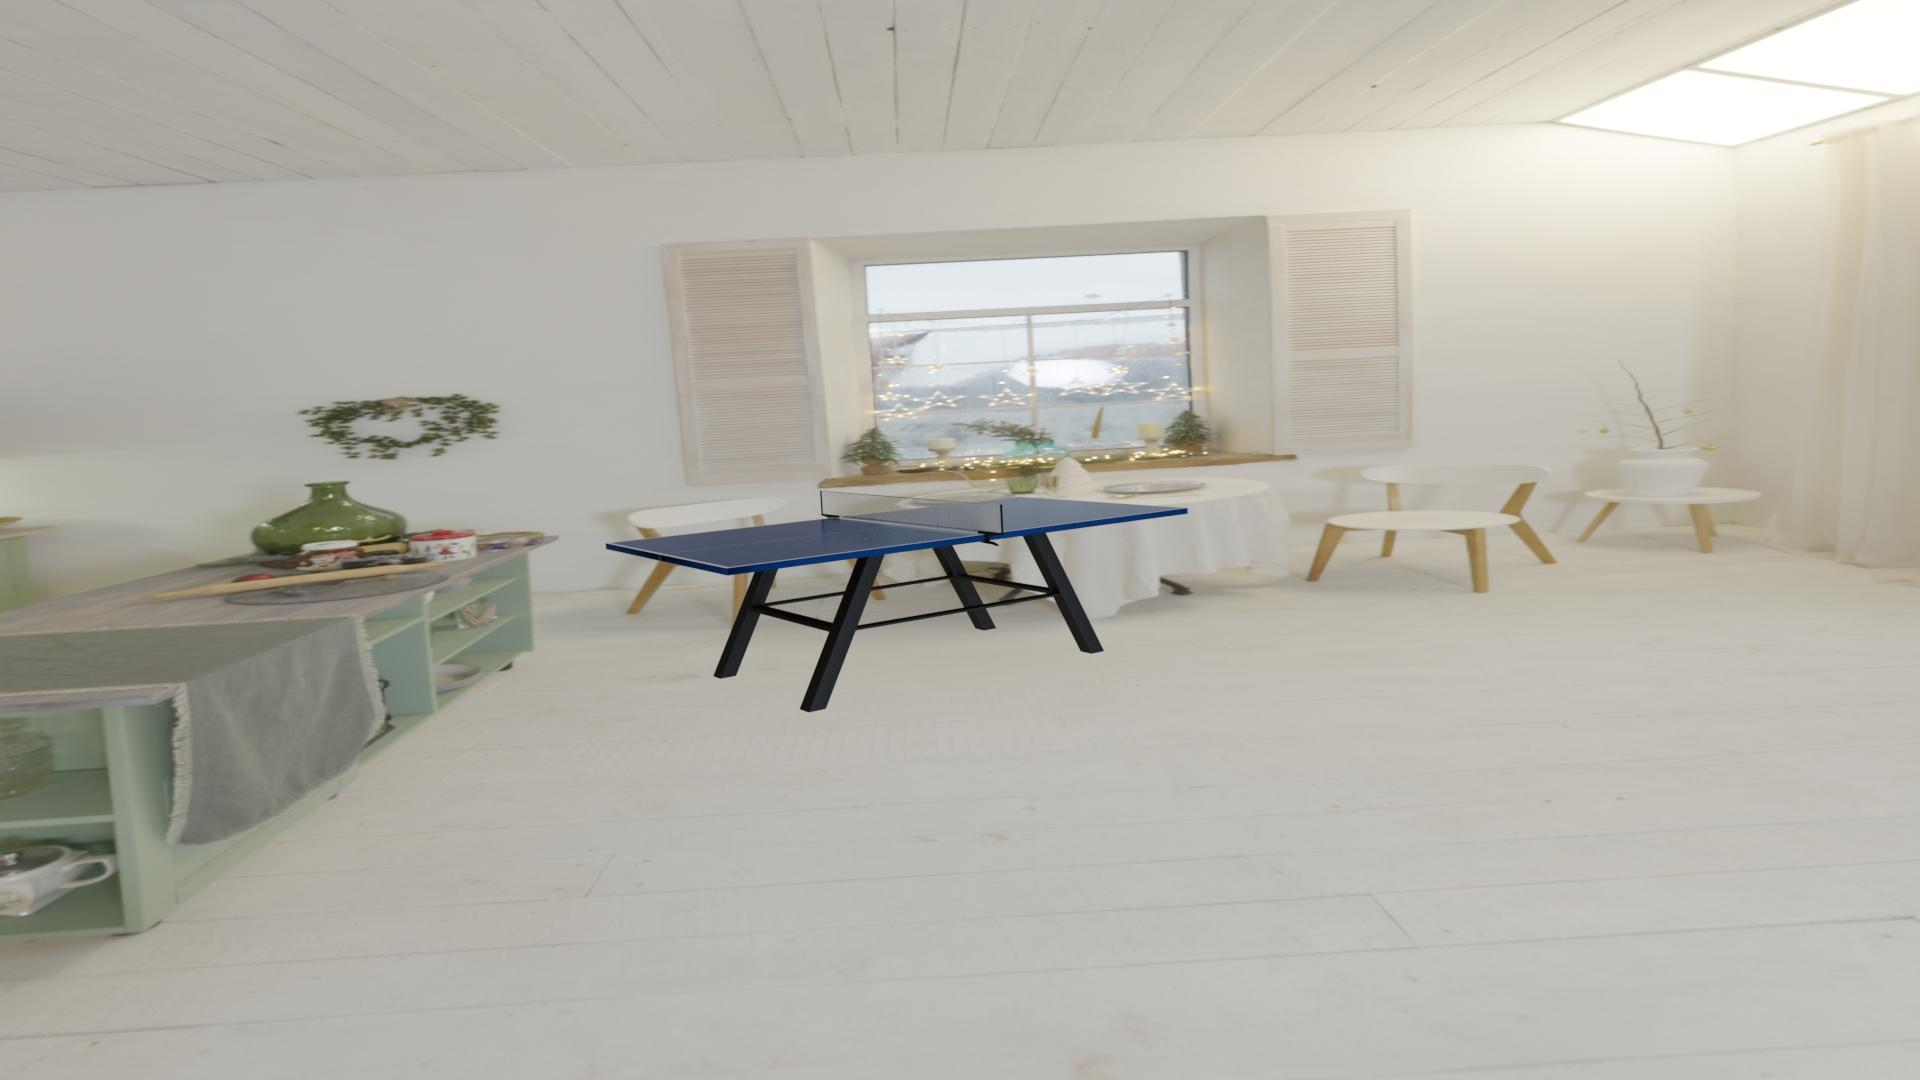table: (611, 497, 1183, 567)
